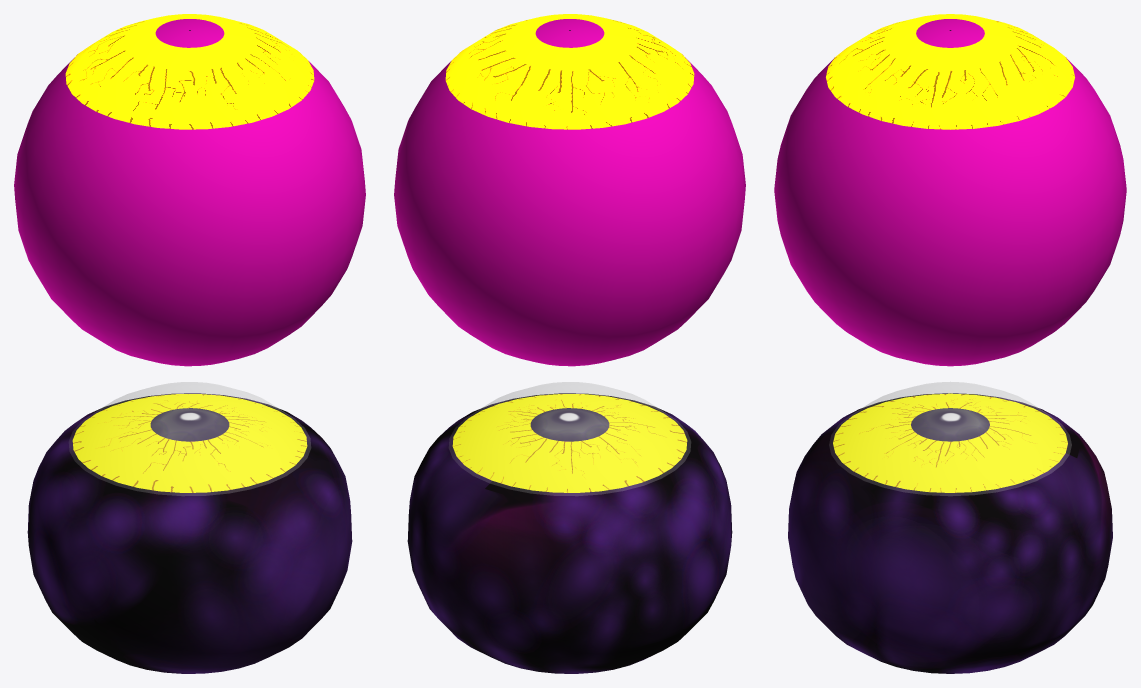
Rendered from odins eye.glb.
The picture shows the model from 3 angles, left to right: view 1: azimuth 30°, elevation 25°; view 2: azimuth 150°, elevation 25°; view 3: azimuth 270°, elevation 25°; orthographic projection.
Visible parts, largest first — view 1: Sphere.002, Sphere, Sphere.001; view 2: Sphere.002, Sphere, Sphere.001; view 3: Sphere.002, Sphere, Sphere.001.
Boxes of the visible parts, box(x1,y1,x2,y2) form: Sphere.002: box(14, 14, 365, 366); Sphere: box(27, 393, 352, 673); Sphere.001: box(69, 382, 310, 495); Sphere.002: box(394, 14, 745, 366); Sphere: box(407, 393, 732, 673); Sphere.001: box(449, 382, 690, 495); Sphere.002: box(774, 14, 1126, 366); Sphere: box(788, 393, 1112, 673); Sphere.001: box(829, 382, 1071, 495).
Size of the model in its own units: 2 by 3.91 by 2.
Materials: 4 (3 with a texture image).
